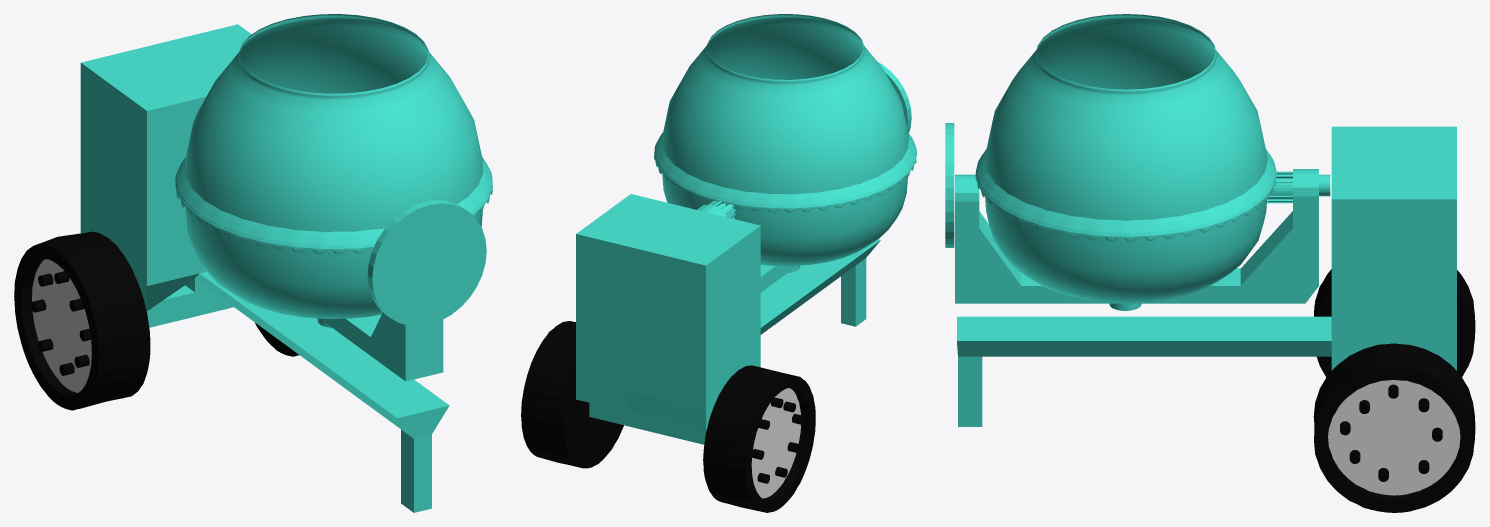
The model's file is concretera.fbx.
3 views of the same model, side by side, from view 1: azimuth 30°, elevation 25°; view 2: azimuth 150°, elevation 25°; view 3: azimuth 270°, elevation 25° (orthographic). The views are drawn at different scales.
Parts seen in each view (by area): view 1: concretera, motor_concretera, Cylinder.004, Disco_concretera, brazo_concretera; view 2: concretera, motor_concretera, Cylinder.004, brazo_concretera, Disco_concretera; view 3: concretera, motor_concretera, Cylinder.004, brazo_concretera, Disco_concretera, perno_concretera.
Part boxes in pixels (x1,y1,x2,y2): concretera: (175,14,492,318); motor_concretera: (80,24,449,512); Cylinder.004: (14,231,299,410); Disco_concretera: (367,200,486,326); brazo_concretera: (320,312,443,381); concretera: (654,14,916,266); motor_concretera: (576,194,880,444); Cylinder.004: (521,321,815,512); brazo_concretera: (697,204,796,292); Disco_concretera: (878,62,911,132); concretera: (975,14,1276,302); motor_concretera: (957,126,1456,426); Cylinder.004: (1313,269,1475,512); brazo_concretera: (955,169,1330,303); Disco_concretera: (945,123,954,247); perno_concretera: (1267,171,1292,203).
Size of the model in its own units: 225 by 329 by 396.
